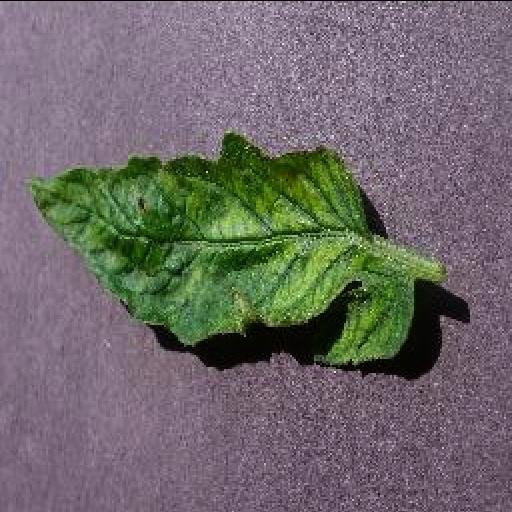disease_tomato: (22, 130, 422, 372)
